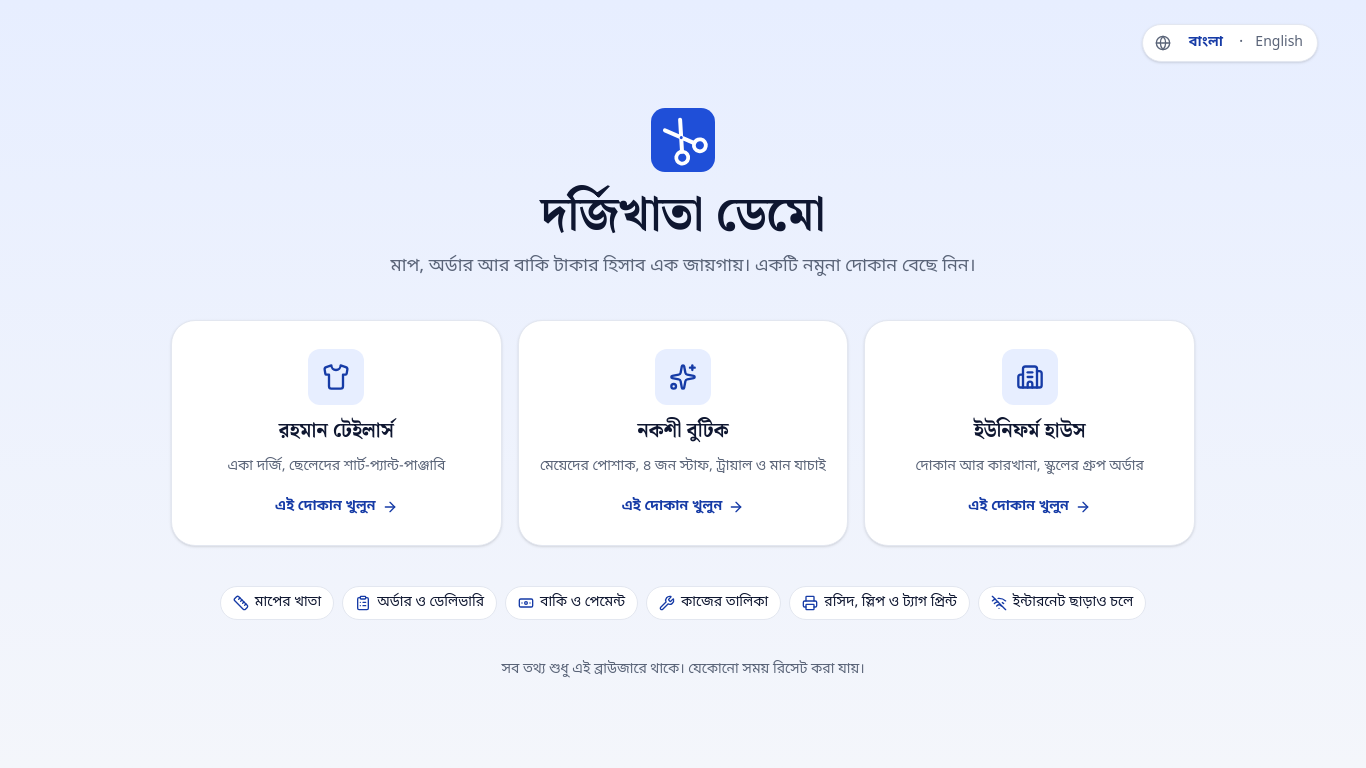
Welcome on a desktop › shows both languages with the current one pressed, and switches to English
Click the button "English" at (1279, 43), box [1245,29,1313,57]
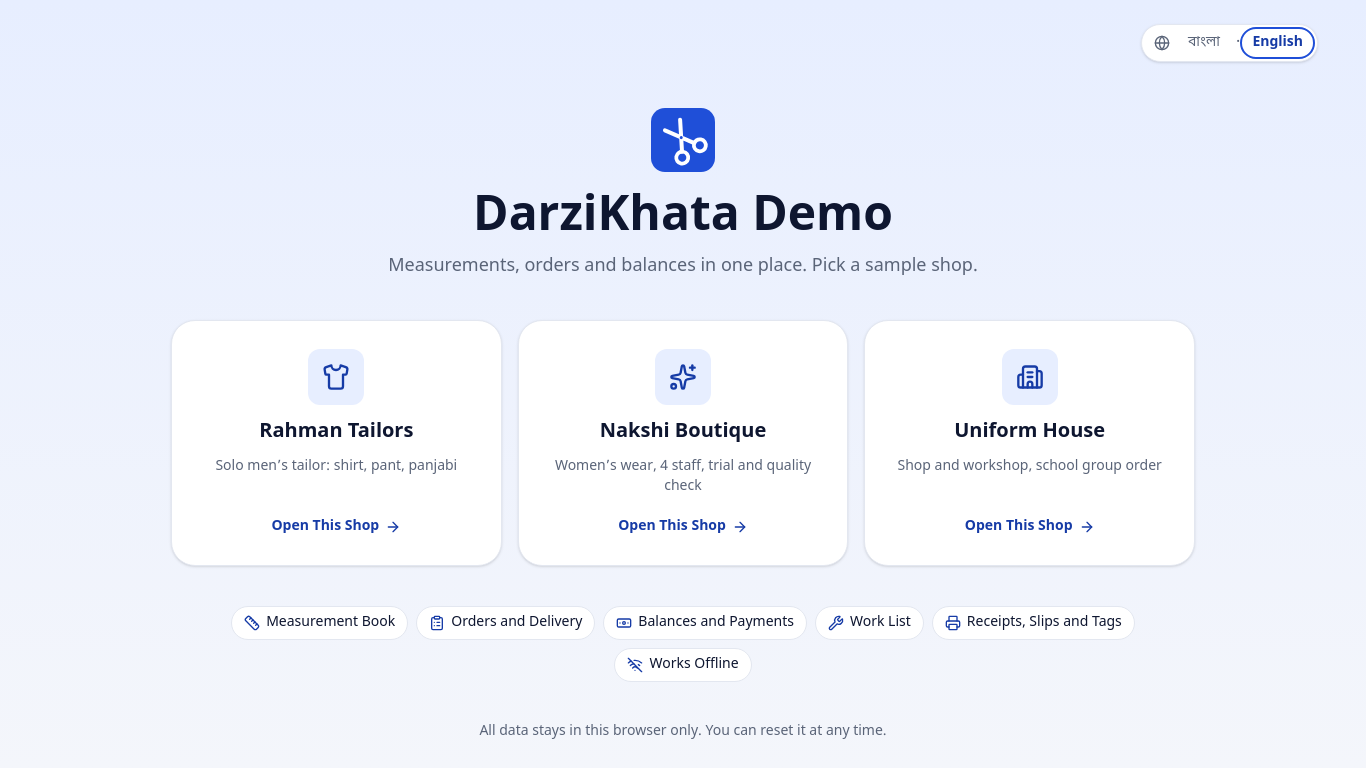
Expected: the heading "DarziKhata Demo" is shown, [473,192,893,240]
Expected: the list item "Works Offline" is shown, [614,648,752,682]
